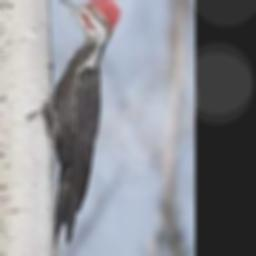Woodpecker: (46, 0, 121, 248)
